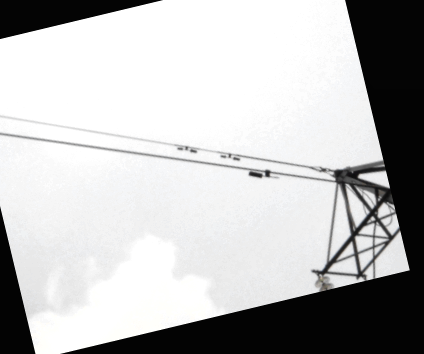damper: (218, 150, 244, 161), (175, 144, 198, 154)
damper_defect: (248, 167, 281, 181)
